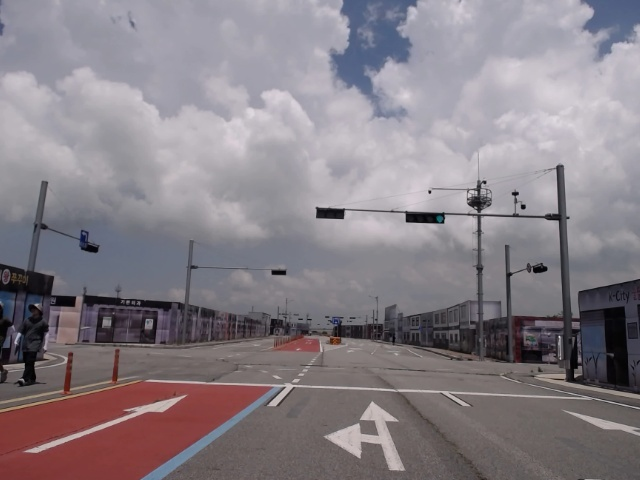straight_green_4: (405, 214, 444, 224)
